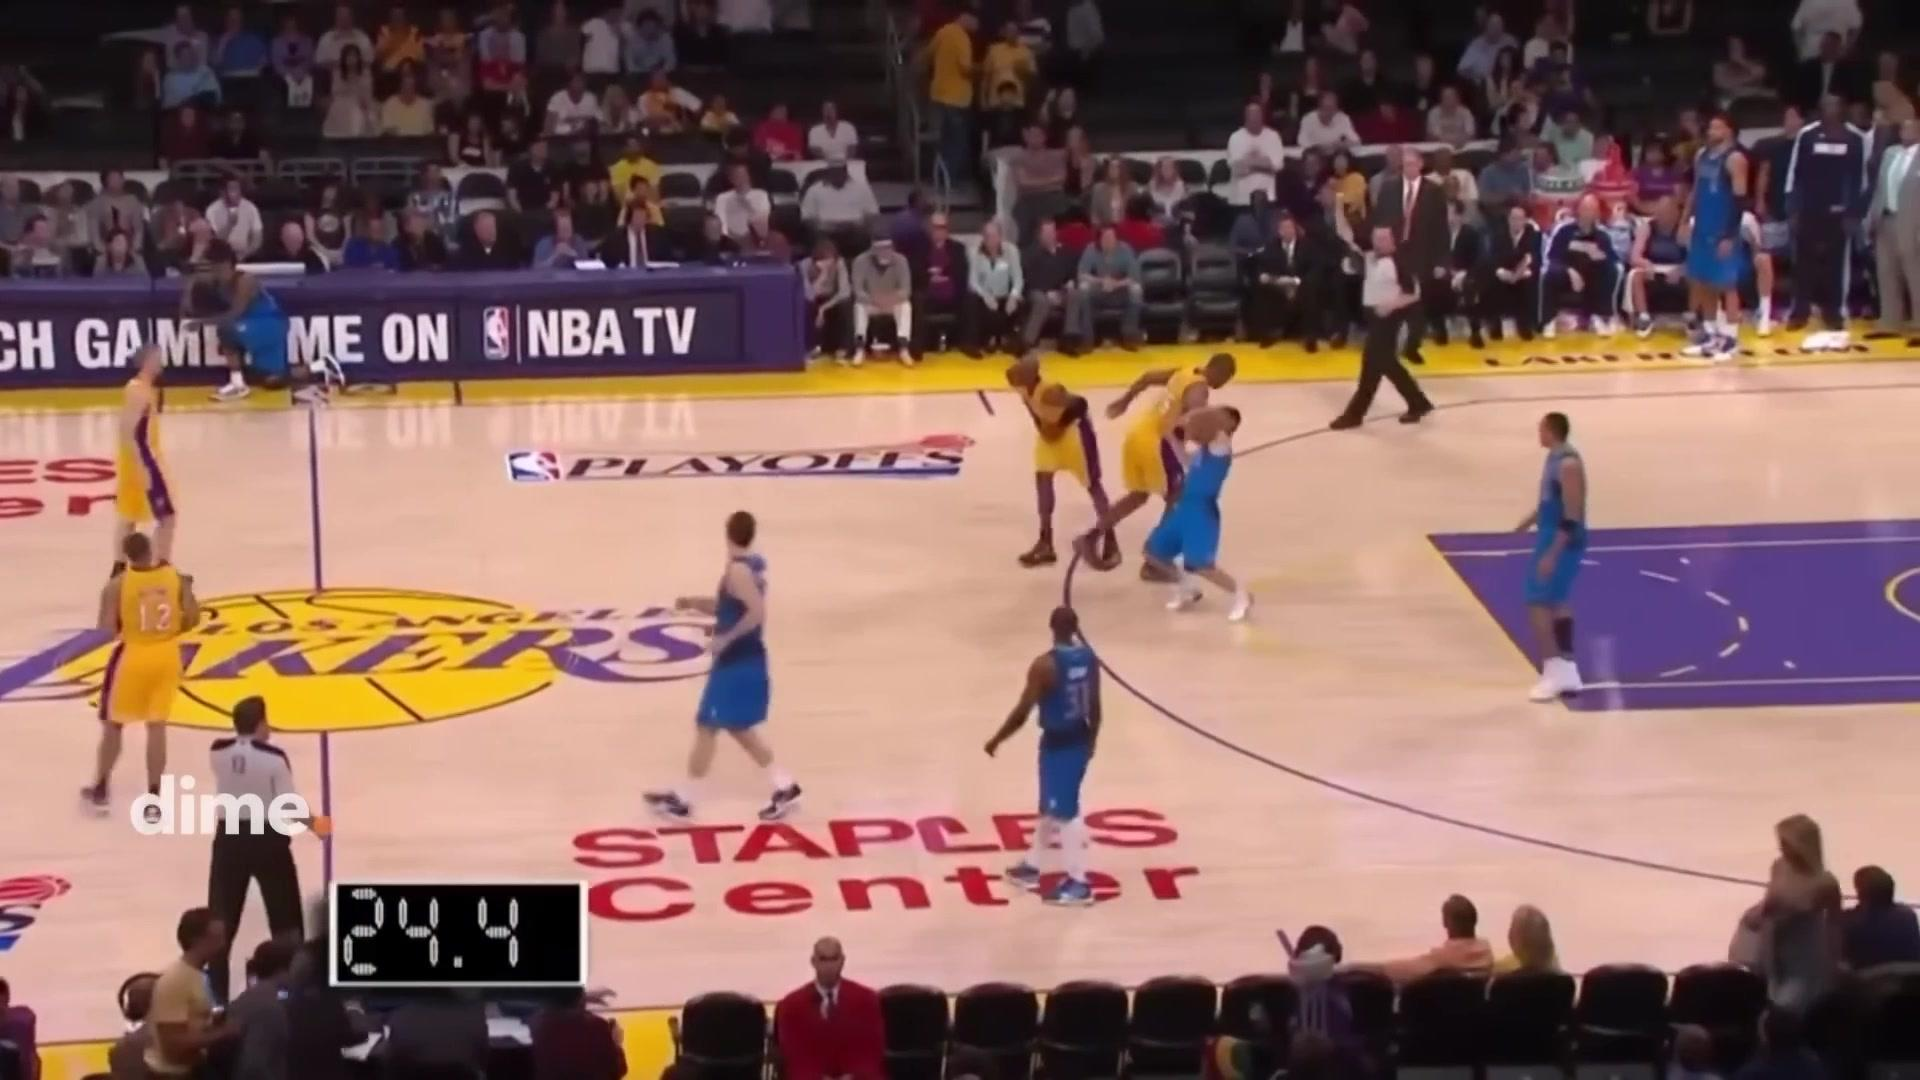foul: (1080, 347, 1250, 622)
